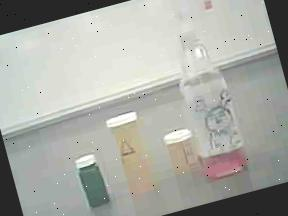Bottle A: (96, 102, 169, 201)
Bottle B: (154, 119, 204, 182)
Bottle C: (66, 146, 120, 214)
hazard: (152, 0, 261, 188)
